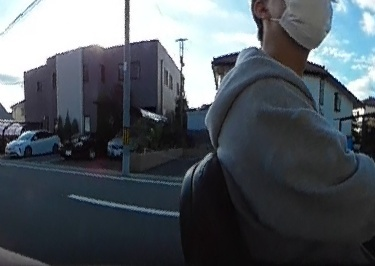person: (218, 0, 375, 265)
